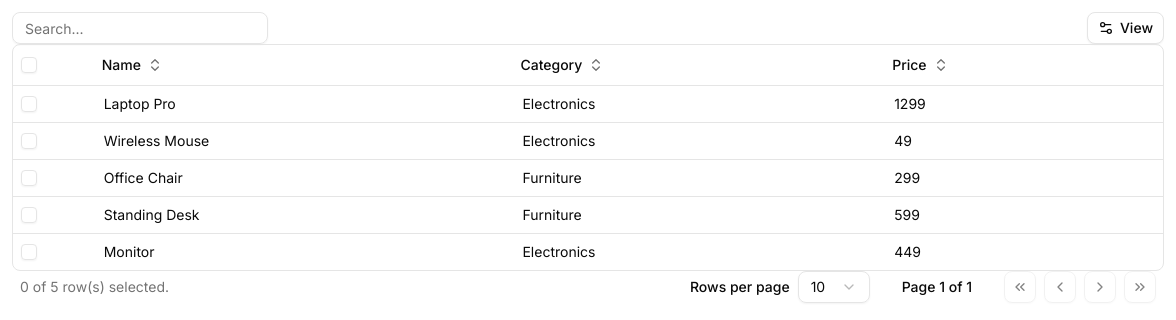
Test: DataTable column visibility › does not list the selection column in view options
The width and height of the screenshot is (1176, 320).
Click the button "View" at (1125, 28), box [1087, 12, 1164, 44]
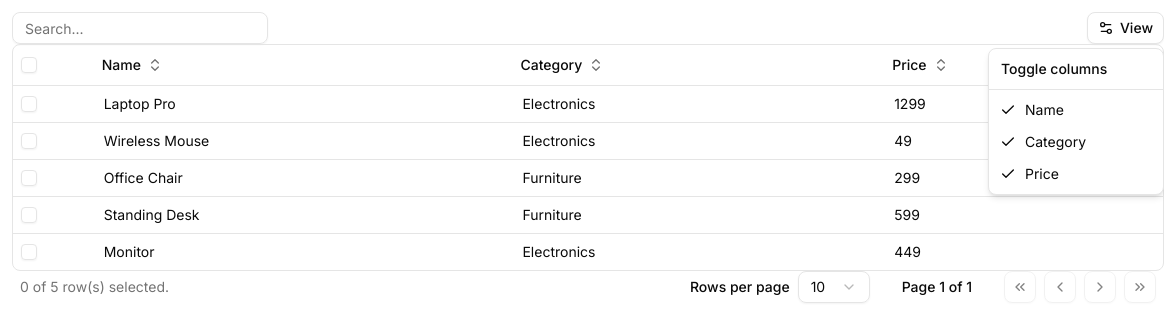
Check: the number of menu items is 3, box [1000, 101, 1064, 118]; [1000, 133, 1086, 150]; [1000, 165, 1059, 182]
